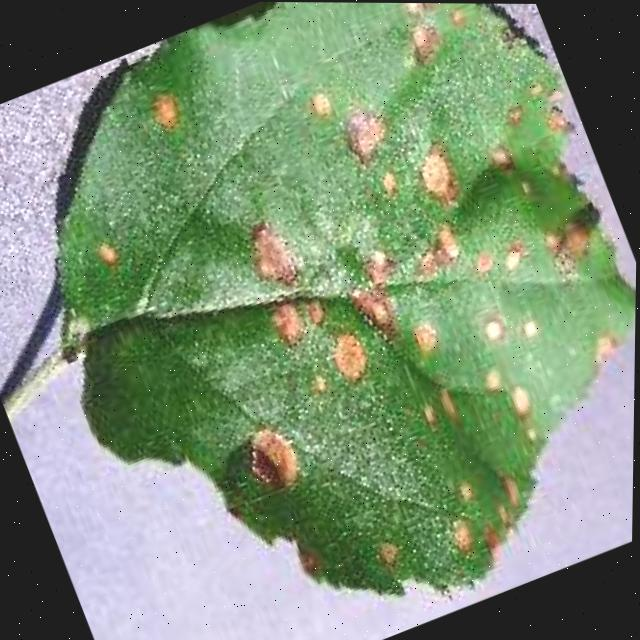black_rot: (295, 68, 404, 183), (216, 399, 319, 520), (520, 185, 626, 285), (221, 196, 316, 306), (391, 208, 484, 297), (396, 129, 475, 223), (317, 319, 388, 399), (389, 6, 466, 77), (253, 292, 316, 365), (132, 74, 198, 143), (411, 381, 472, 441), (84, 221, 143, 283), (359, 524, 416, 585), (428, 507, 485, 564), (571, 323, 627, 380), (475, 126, 527, 185), (495, 374, 549, 429), (466, 303, 516, 362), (489, 463, 540, 520), (403, 309, 452, 366), (437, 463, 487, 516), (296, 291, 338, 340)
